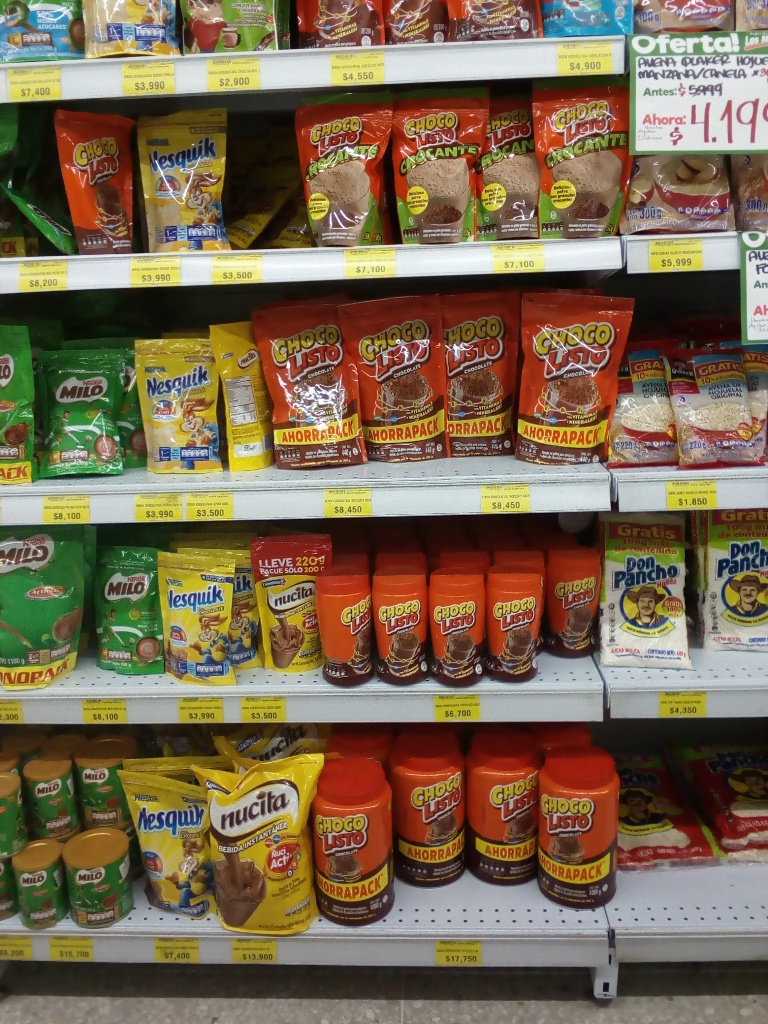COL0170103DYP44000: (519, 279, 634, 466)
COL0170103TRR00100: (535, 743, 624, 911)
COL0170203LAT20000: (0, 760, 22, 870)
COL0170203LAT40000: (11, 840, 69, 932)
COL0170303DYP20000: (155, 542, 244, 684)
